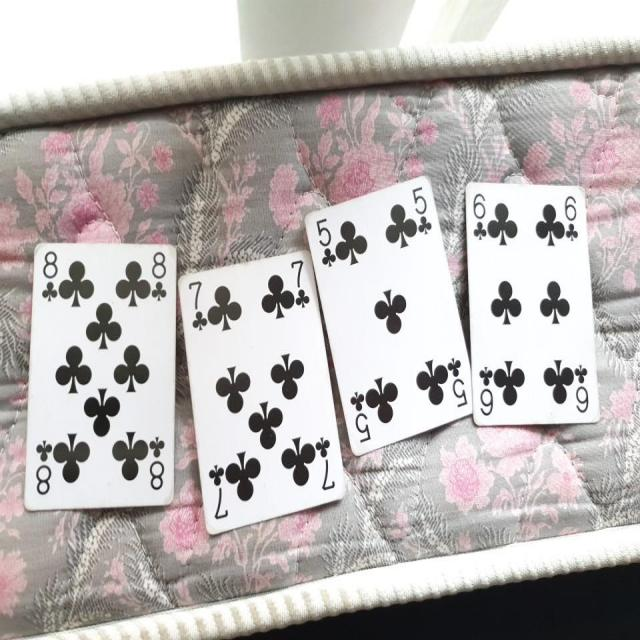5 Trefoils: (302, 173, 476, 458)
6 Trefoils: (464, 180, 601, 427)
7 Trefoils: (177, 251, 348, 537)
8 Trefoils: (24, 241, 178, 507)
